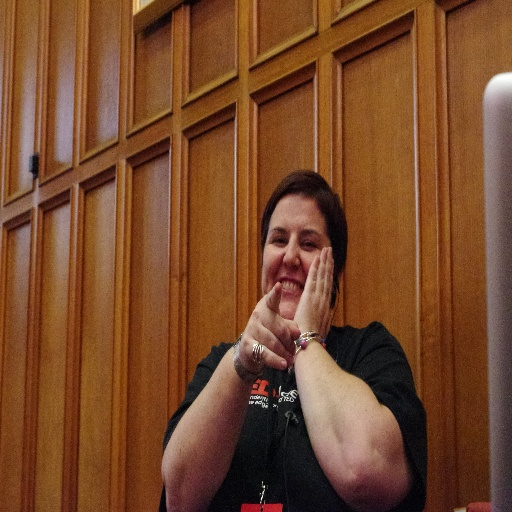hand: (234, 299, 312, 400), (291, 246, 333, 338)
